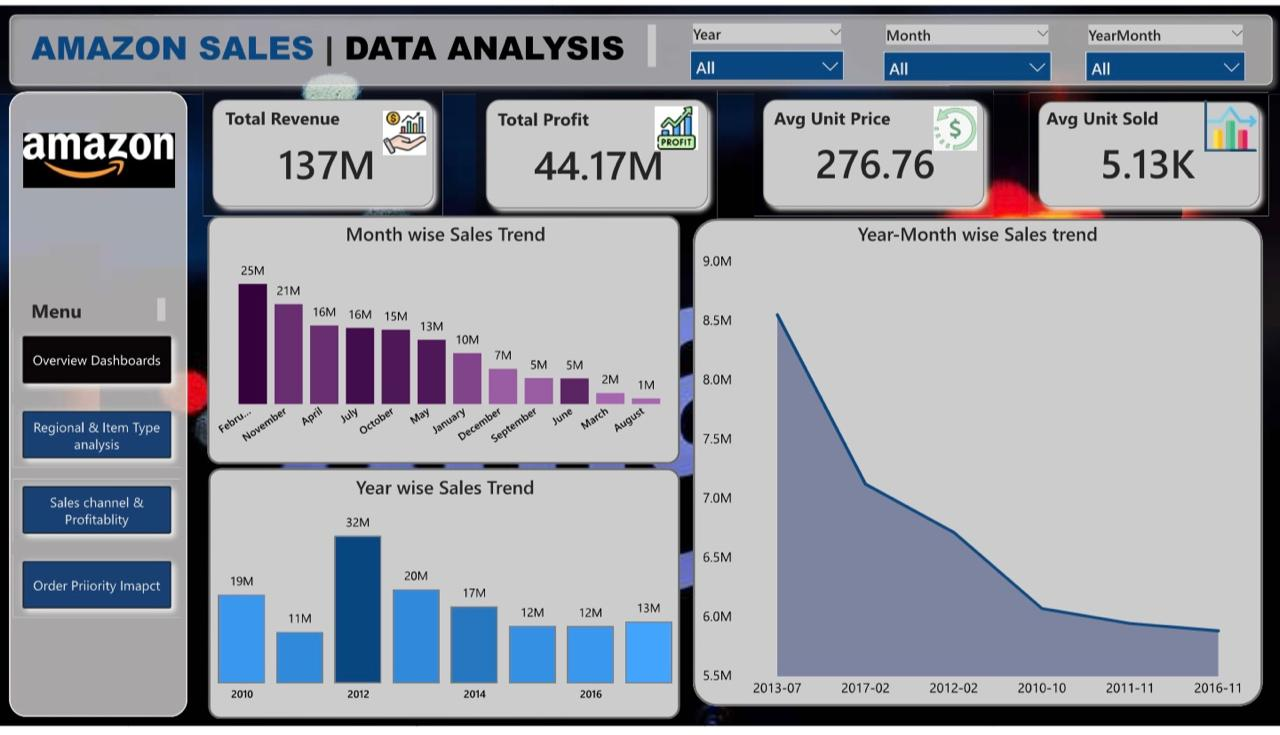

The page's visual inventory and layout, read from the dashboard file:
{"tool":"powerbi","page":{"name":"Overview Dashboards","canvas":[1280,720],"ordinal":0},"visuals":[{"type":"shape","box":[0,0,1279.8,89.3],"z":0},{"type":"shape","box":[8.5,86.5,178.6,625],"z":1000},{"type":"shape","box":[202.7,85.5,239.5,124.7],"z":2000},{"type":"shape","box":[476.2,85.5,239.5,126.1],"z":3000},{"type":"shape","box":[752.6,85.5,239.5,124.7],"z":4000},{"type":"shape","box":[1027.6,86.9,239.5,123.3],"z":5000},{"type":"card","title":"Total Revenue","fields":{"Values":["Sum(Amazon Sales Records for internship projects 2.Total Revenue)"]},"box":[220,100,212.9,97.1],"z":6000},{"type":"card","title":"Total Profit","fields":{"Values":["Sum(Amazon Sales Records for internship projects 2.Total Profit)"]},"box":[491.8,100.6,212.6,96.4],"z":7000},{"type":"card","title":"Avg Unit Price","fields":{"Values":["Avg(Amazon Sales Records for internship projects 2.Unit Price)"]},"box":[767.6,100.5,212.6,95],"z":8000},{"type":"card","title":"Avg Unit Sold","fields":{"Values":["Avg(Amazon Sales Records for internship projects 2.Units Sold)"]},"box":[1039.7,100.5,212.6,95],"z":9000},{"type":"shape","box":[206.9,209.8,472,248],"z":10000},{"type":"shape","box":[208.3,462,470.6,250.9],"z":11000},{"type":"shape","box":[691.7,212.6,569.8,487.6],"z":12000},{"type":"textbox","box":[25.5,14.2,635,60.9],"z":13000},{"type":"image","box":[18.4,95,161.6,119.1],"z":14000},{"type":"columnChart","title":"Month wise Sales Trend","fields":{"Category":["Amazon Sales Records for internship projects 2.Month"],"Y":["Sum(Amazon Sales Records for internship projects 2.Total Revenue)"]},"box":[211.2,215.4,467.7,232.4],"z":15000},{"type":"columnChart","title":"Year wise Sales Trend","fields":{"Y":["Sum(Amazon Sales Records for internship projects 2.Total Revenue)"],"Category":["Amazon Sales Records for internship projects 2.Year"]},"box":[212.6,467.7,463.5,238.1],"z":16000},{"type":"slicer","fields":{"Values":["Amazon Sales Records for internship projects 2.Year"]},"box":[678.9,12.8,174.3,60.9],"z":17000},{"type":"slicer","fields":{"Values":["Amazon Sales Records for internship projects 2.Month"]},"box":[871.7,14.2,188.5,60.9],"z":18000},{"type":"lineChart","title":"Year-Month wise Sales trend","fields":{"Category":["Amazon Sales Records for internship projects 2.YearMonth"],"Y":["Sum(Amazon Sales Records for internship projects 2.Total Revenue)"]},"box":[695.9,215.4,561.3,484.7],"z":19000},{"type":"slicer","fields":{"Values":["Amazon Sales Records for internship projects 2.YearMonth"]},"box":[1074.3,14.2,180,60.9],"z":20000},{"type":"pageNavigator","box":[12.9,321.4,167.1,291.4],"z":21000},{"type":"textbox","box":[25.7,287.1,144.3,34.3],"z":22000},{"type":"image","box":[354.3,100,100,54.3],"z":23000},{"type":"image","box":[620,95.7,110,52.9],"z":24000},{"type":"image","box":[914.3,95.7,78.6,54.3],"z":25000},{"type":"image","box":[1195.7,88.6,65.7,62.9],"z":26000}]}

Visuals, with their boxes in screenshot pixels (x1, y1, x2, y2), scaled from the page's 1280x720 canvas onto the 1280x735 screenshot:
shape: select_region(0, 0, 1279, 91)
shape: select_region(8, 88, 187, 726)
shape: select_region(203, 87, 442, 215)
shape: select_region(476, 87, 716, 216)
shape: select_region(753, 87, 992, 215)
shape: select_region(1028, 89, 1267, 215)
"Total Revenue" card: select_region(220, 102, 433, 201)
"Total Profit" card: select_region(492, 103, 704, 201)
"Avg Unit Price" card: select_region(768, 103, 980, 200)
"Avg Unit Sold" card: select_region(1040, 103, 1252, 200)
shape: select_region(207, 214, 679, 467)
shape: select_region(208, 472, 679, 728)
shape: select_region(692, 217, 1262, 715)
textbox: select_region(26, 14, 660, 77)
image: select_region(18, 97, 180, 219)
"Month wise Sales Trend" columnChart: select_region(211, 220, 679, 457)
"Year wise Sales Trend" columnChart: select_region(213, 477, 676, 721)
slicer - Amazon Sales Records for internship projects 2.Year: select_region(679, 13, 853, 75)
slicer - Amazon Sales Records for internship projects 2.Month: select_region(872, 14, 1060, 77)
"Year-Month wise Sales trend" lineChart: select_region(696, 220, 1257, 715)
slicer - Amazon Sales Records for internship projects 2.YearMonth: select_region(1074, 14, 1254, 77)
pageNavigator: select_region(13, 328, 180, 626)
textbox: select_region(26, 293, 170, 328)
image: select_region(354, 102, 454, 158)
image: select_region(620, 98, 730, 152)
image: select_region(914, 98, 993, 153)
image: select_region(1196, 90, 1261, 155)
